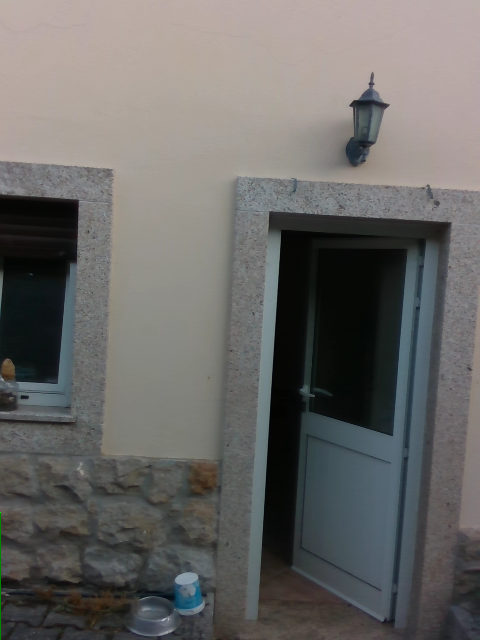semi: (244, 212, 455, 639)
